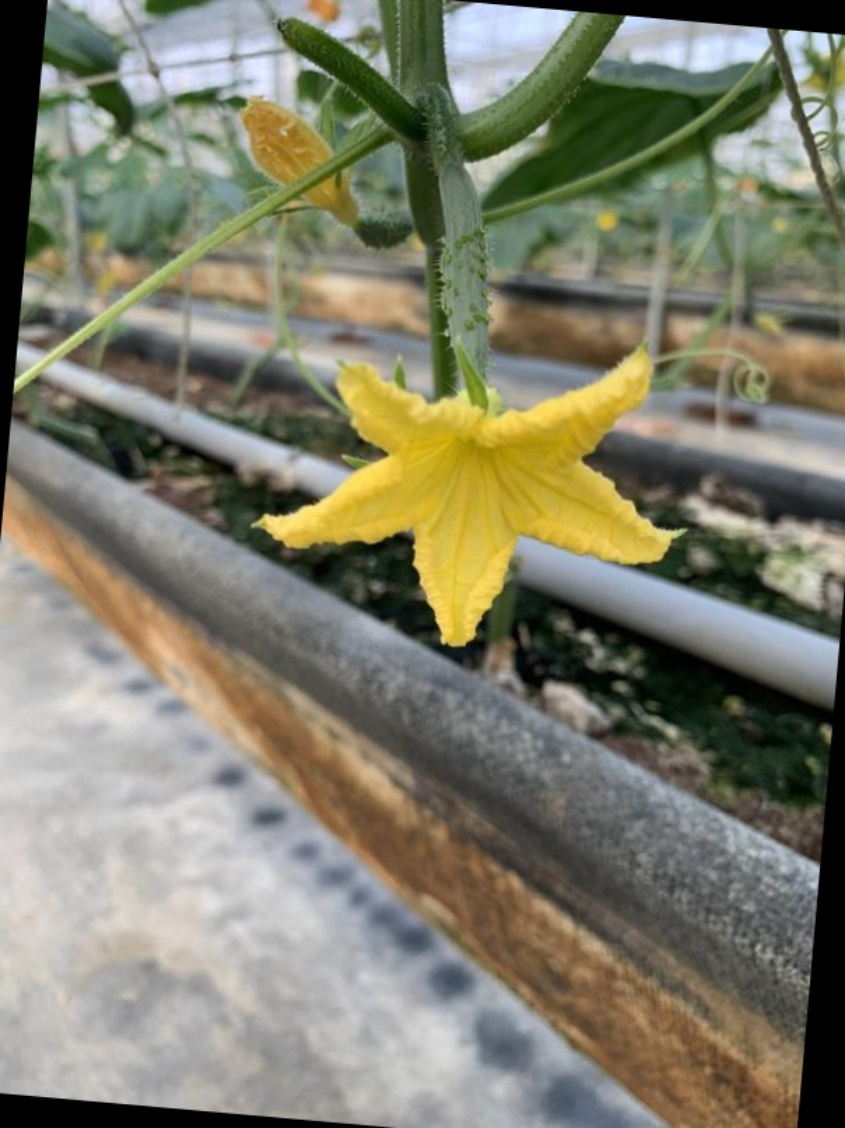flowering: (255, 131, 708, 665)
